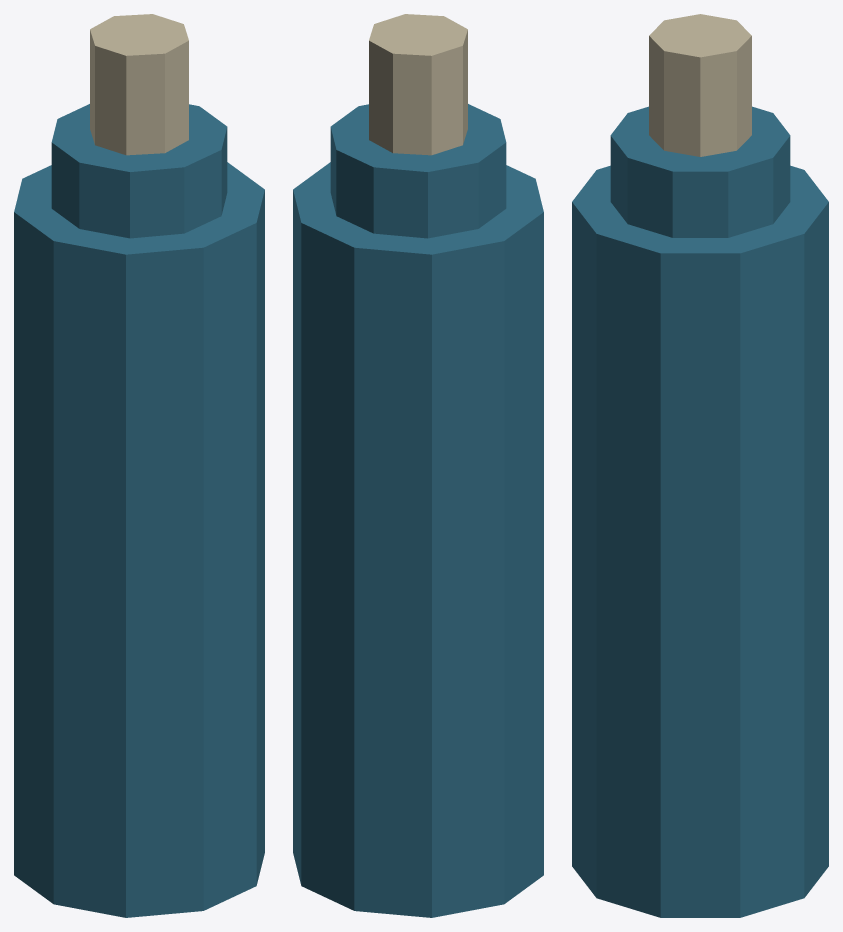
File: set_stacked_tins.glb
3 renders of one model, left to right at view 1: azimuth 30°, elevation 25°; view 2: azimuth 150°, elevation 25°; view 3: azimuth 270°, elevation 25°, orthographic.
Visible parts, largest first — view 1: set_stacked_tins; view 2: set_stacked_tins; view 3: set_stacked_tins.
Part boxes in pixels (box(x1,y1,x2,y2)): set_stacked_tins: box(14, 14, 264, 917); set_stacked_tins: box(293, 14, 543, 917); set_stacked_tins: box(572, 14, 828, 917).
Size of the model in its own units: 0.0571 by 0.214 by 0.06.
